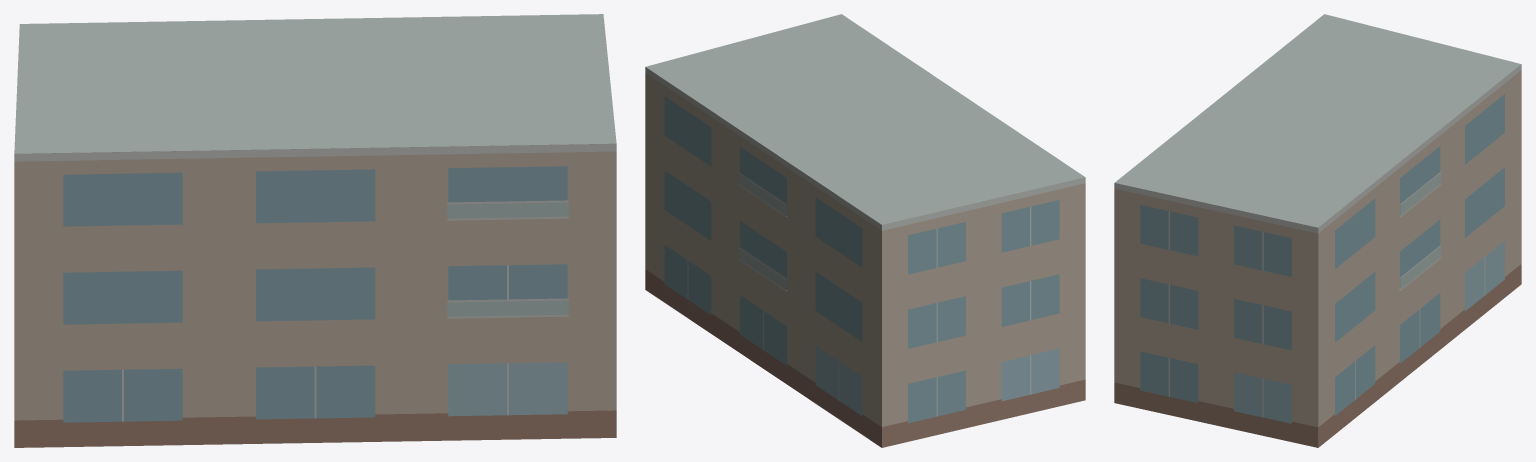
File: survey-upis-32803327.glb
3 views of the same model, side by side, from view 1: azimuth 30°, elevation 25°; view 2: azimuth 150°, elevation 25°; view 3: azimuth 270°, elevation 25° (orthographic). The views are drawn at different scales.
Visible parts, largest first — view 1: survey-upis-32803327.tmp; view 2: survey-upis-32803327.tmp; view 3: survey-upis-32803327.tmp.
Part boxes in pixels (x1,y1,x2,y2): survey-upis-32803327.tmp: (14, 14, 616, 447); survey-upis-32803327.tmp: (645, 14, 1085, 447); survey-upis-32803327.tmp: (1114, 14, 1521, 447).
Size of the model in its own units: 19.06 by 9.15 by 15.34.
